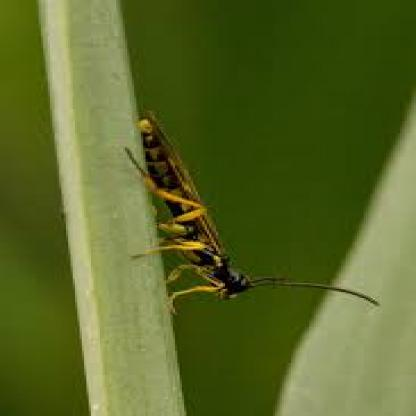sawfly: (124, 104, 383, 318)
